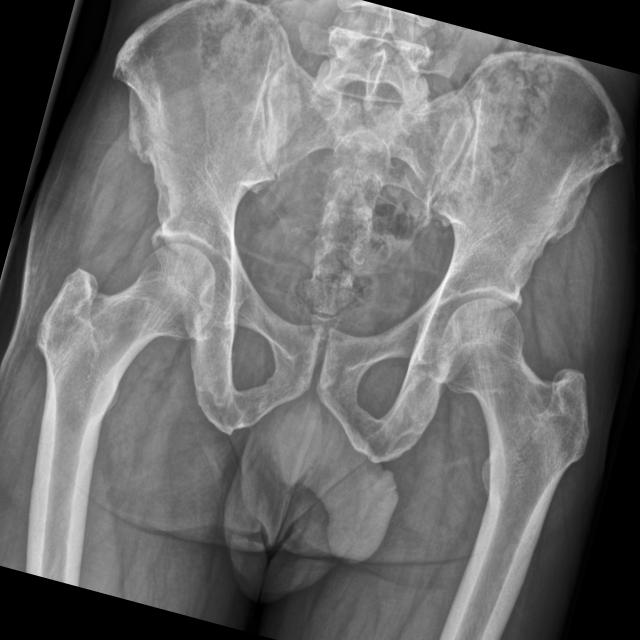normal-left: (434, 295, 590, 629)
normal-right: (28, 242, 216, 533)
